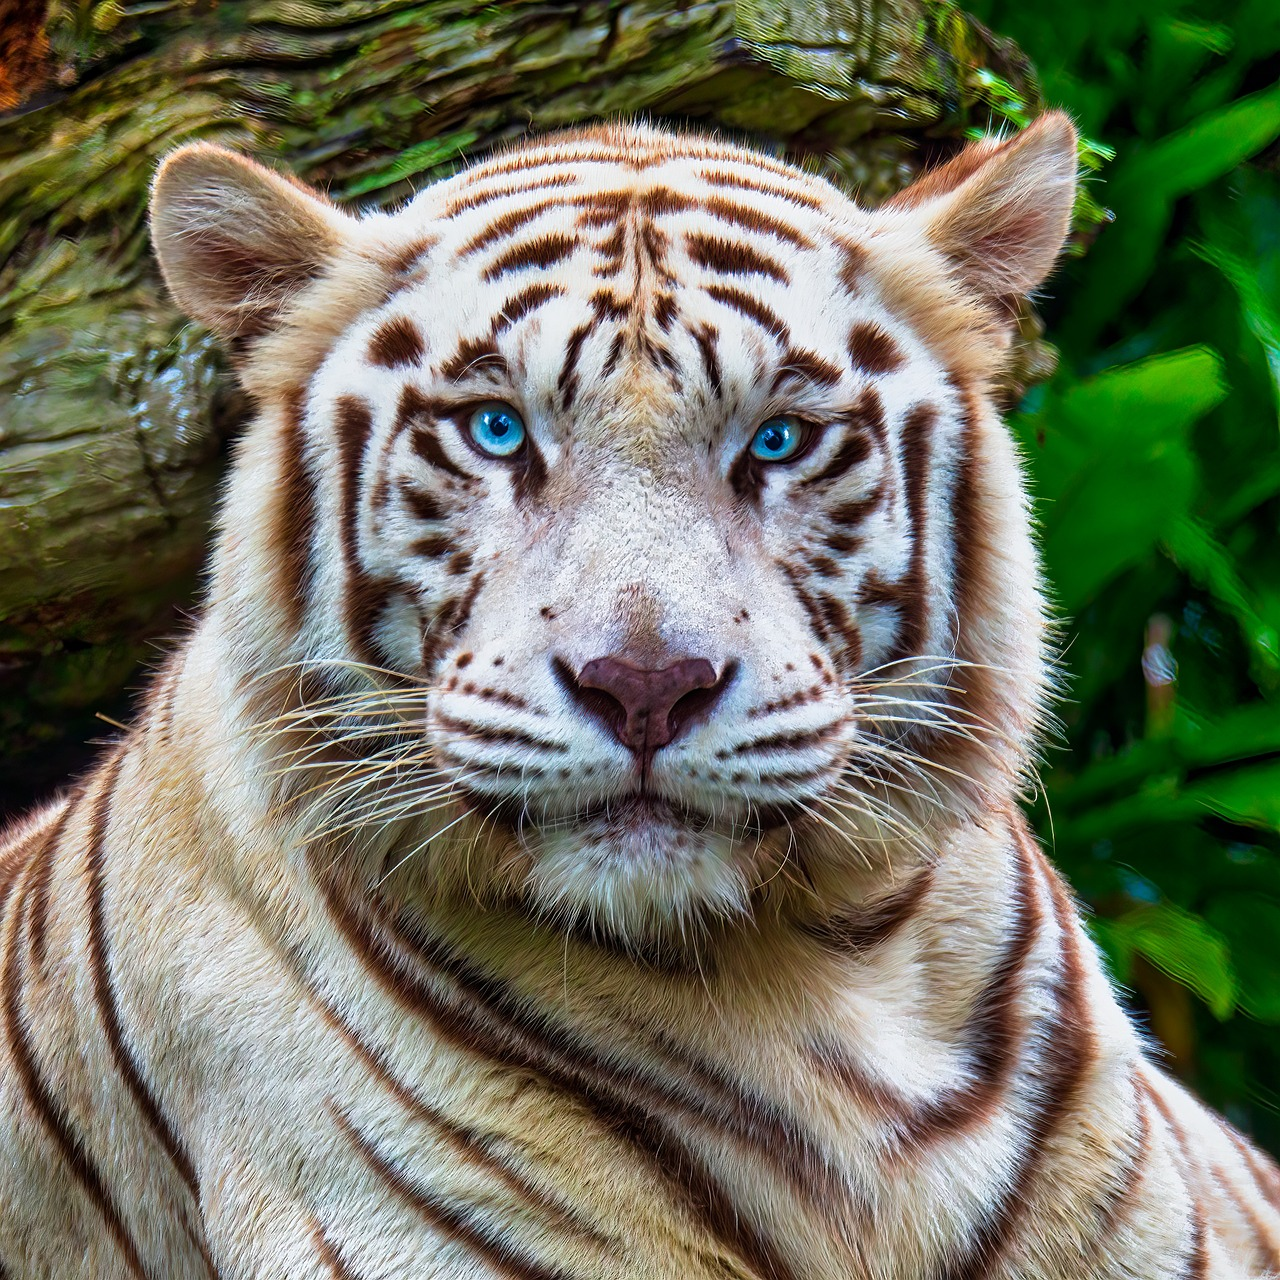tiger: (104, 70, 1099, 855)
